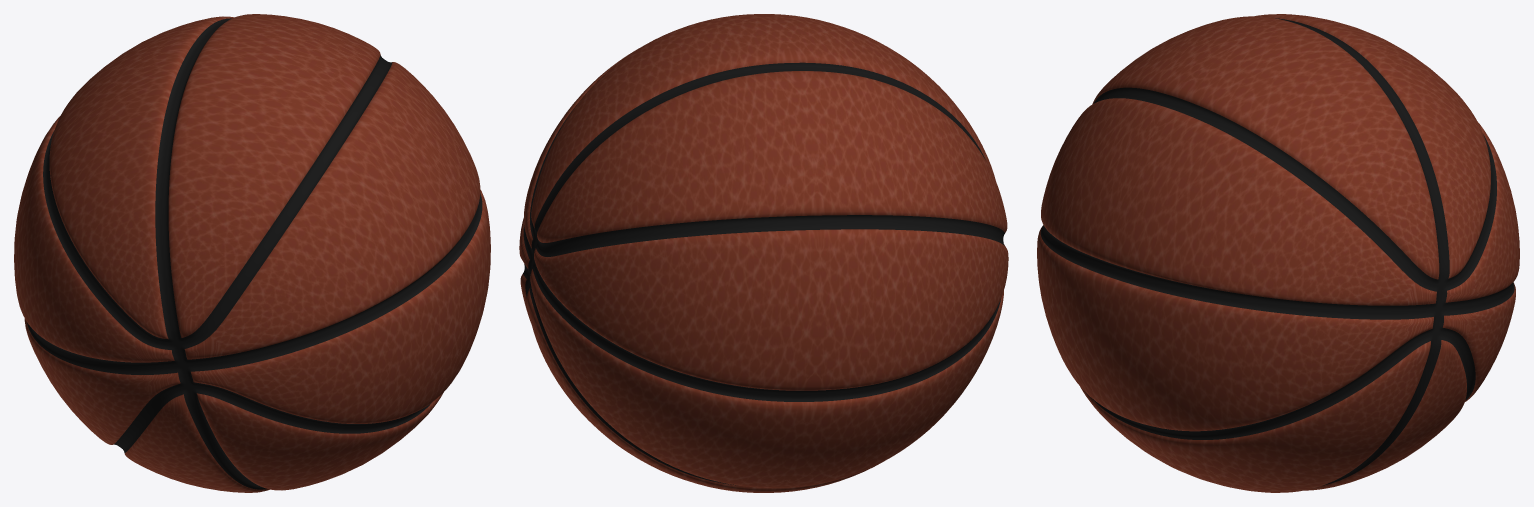
Rendered from basketball.fbx.
The picture shows the model from 3 angles, left to right: view 1: azimuth 30°, elevation 25°; view 2: azimuth 150°, elevation 25°; view 3: azimuth 270°, elevation 25°; orthographic projection.
Visible parts, largest first — view 1: basketball; view 2: basketball; view 3: basketball.
Part boxes in pixels (left/top/right/bottom): basketball: left=14, top=14, right=490, bottom=492; basketball: left=519, top=14, right=1008, bottom=492; basketball: left=1037, top=14, right=1519, bottom=492.
Bounding box in the file's own units: 40.98 × 40.46 × 40.9.
2 materials, 1 textured.
